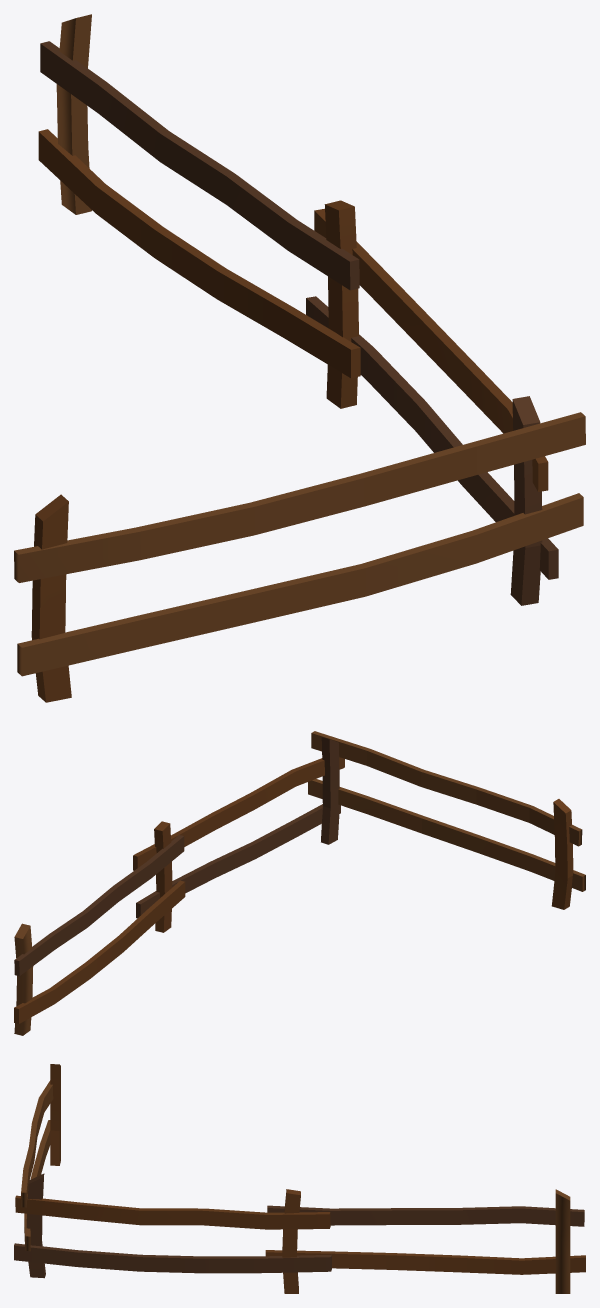
Rendered from WoodFence.fbx.
3 views of the same model, one above another, from view 1: azimuth 30°, elevation 25°; view 2: azimuth 150°, elevation 25°; view 3: azimuth 270°, elevation 25° (orthographic). The views are drawn at different scales.
Parts seen in each view (by area): view 1: Plank3, Plank1, Plank2, Pillar3, Pillar1, Pillar4, Pillar2; view 2: Plank3, Plank1, Plank2, Pillar3, Pillar2, Pillar4, Pillar1; view 3: Plank2, Plank1, Plank3, Pillar4, Pillar1, Pillar2, Pillar3.
Boxes of the visible parts, x1=… form: Plank3: x1=14, y1=412, x2=585, y2=676; Plank1: x1=38, y1=41, x2=360, y2=378; Plank2: x1=306, y1=208, x2=558, y2=579; Pillar3: x1=31, y1=494, x2=71, y2=702; Pillar1: x1=324, y1=200, x2=358, y2=408; Pillar4: x1=56, y1=14, x2=91, y2=214; Pillar2: x1=510, y1=396, x2=542, y2=605; Plank3: x1=308, y1=731, x2=585, y2=891; Plank1: x1=14, y1=835, x2=185, y2=1023; Plank2: x1=133, y1=757, x2=344, y2=918; Pillar3: x1=551, y1=799, x2=573, y2=909; Pillar2: x1=321, y1=737, x2=339, y2=844; Pillar4: x1=14, y1=923, x2=33, y2=1035; Pillar1: x1=154, y1=821, x2=172, y2=932; Plank2: x1=14, y1=1195, x2=331, y2=1273; Plank1: x1=265, y1=1205, x2=585, y2=1274; Plank3: x1=21, y1=1080, x2=53, y2=1251; Pillar4: x1=555, y1=1189, x2=570, y2=1293; Pillar1: x1=282, y1=1189, x2=300, y2=1293; Pillar2: x1=26, y1=1173, x2=45, y2=1278; Pillar3: x1=50, y1=1064, x2=60, y2=1165.
Size of the model in its own units: 1209 by 394 by 2026.
